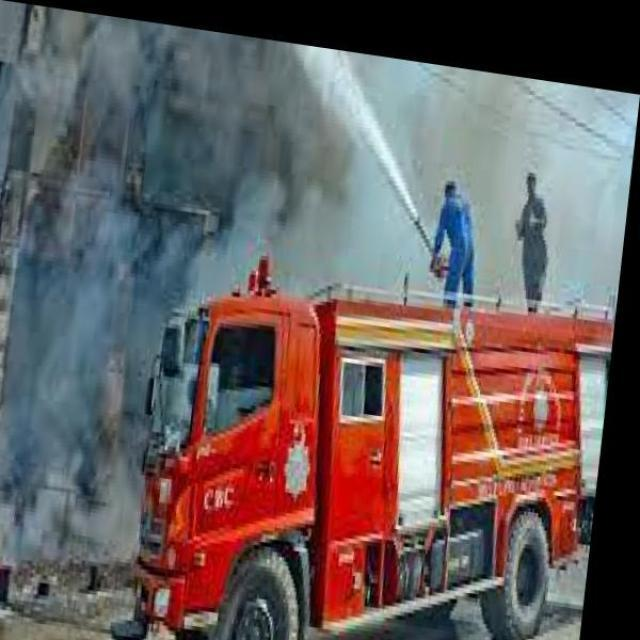emergency: (111, 252, 615, 638)
